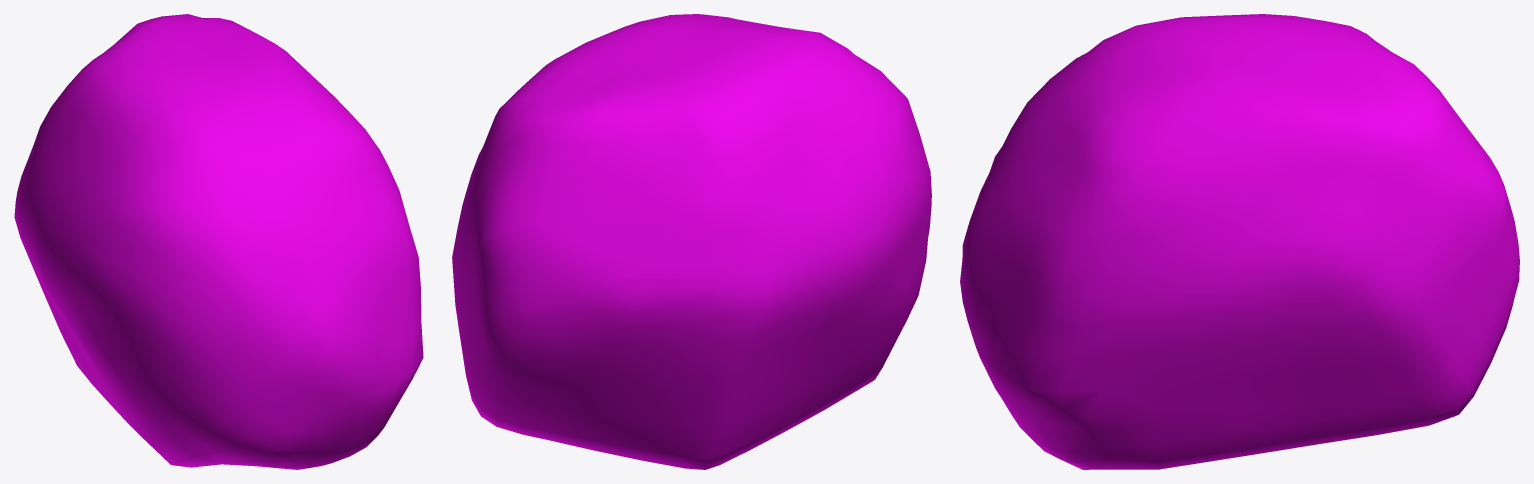
File: Game2Stone1.fbx
3 views of the same model, side by side, from view 1: azimuth 30°, elevation 25°; view 2: azimuth 150°, elevation 25°; view 3: azimuth 270°, elevation 25° (orthographic). The views are drawn at different scales.
Parts seen in each view (by area): view 1: Stone1; view 2: Stone1; view 3: Stone1.
Part boxes in pixels (x1,y1,x2,y2): Stone1: (14, 14, 423, 469); Stone1: (452, 14, 931, 469); Stone1: (960, 14, 1519, 469).
Bounding box in the file's own units: 1.37 × 1.4 × 1.88.
